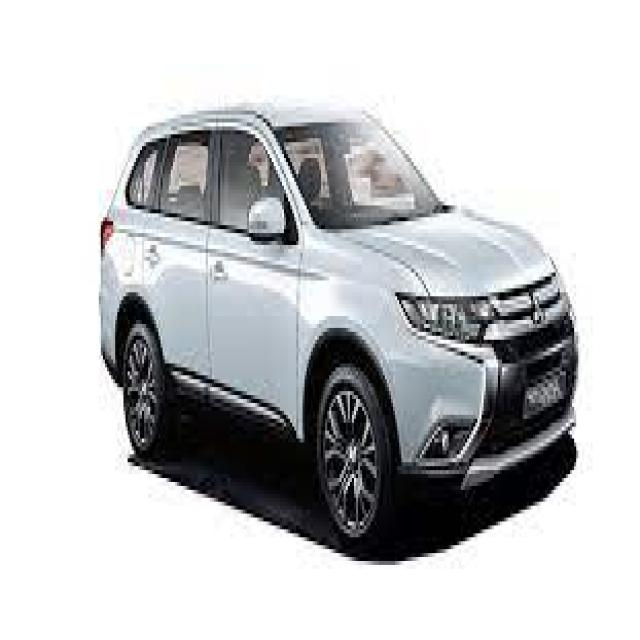light_vehicle: (98, 95, 579, 553)
